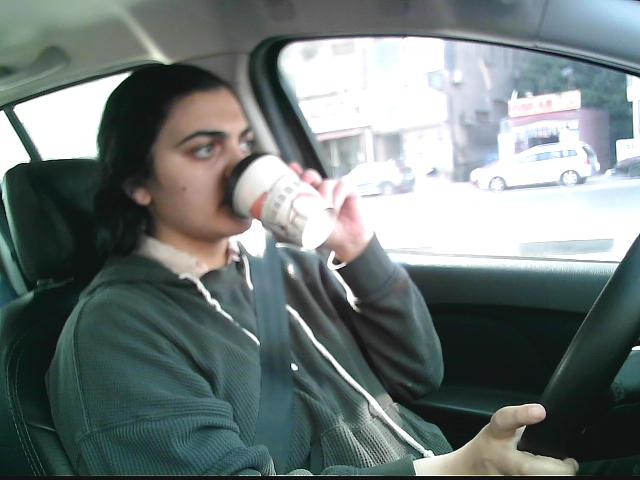Drinking: (224, 147, 339, 254)
